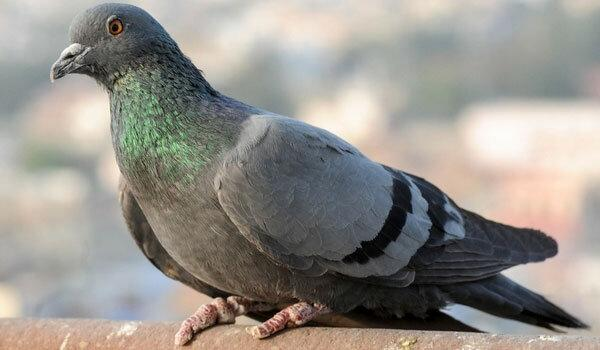Flying Rat: (47, 6, 550, 332)
